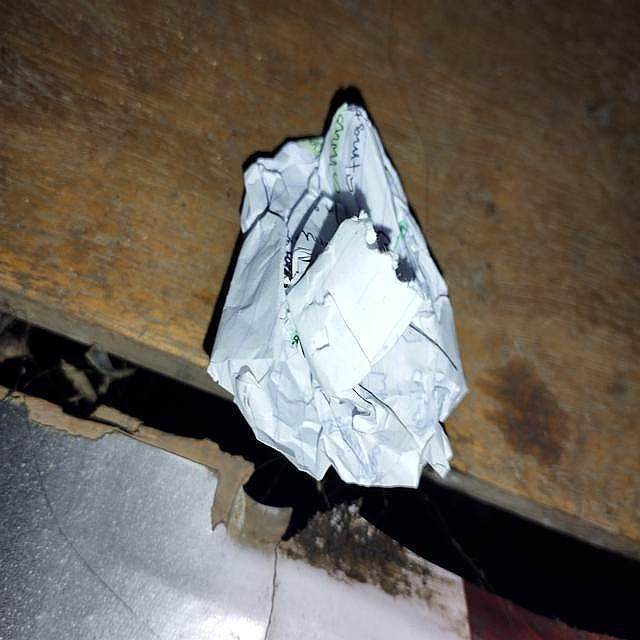Biodegradable: (205, 95, 473, 491)
